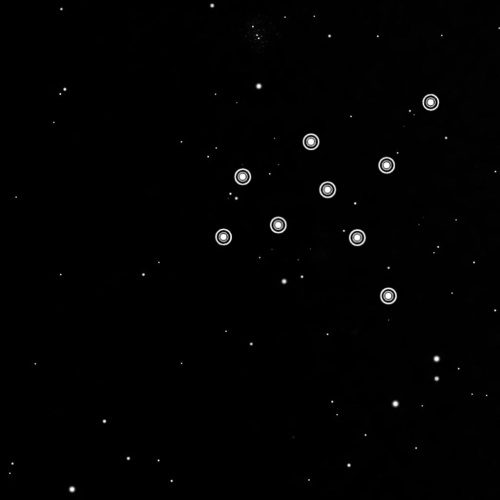cygnus: (208, 87, 443, 310)
